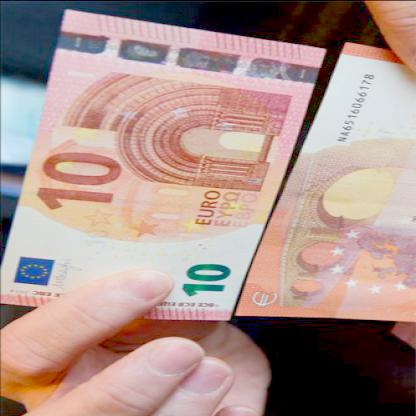euro_banknote: (7, 56, 319, 311)
